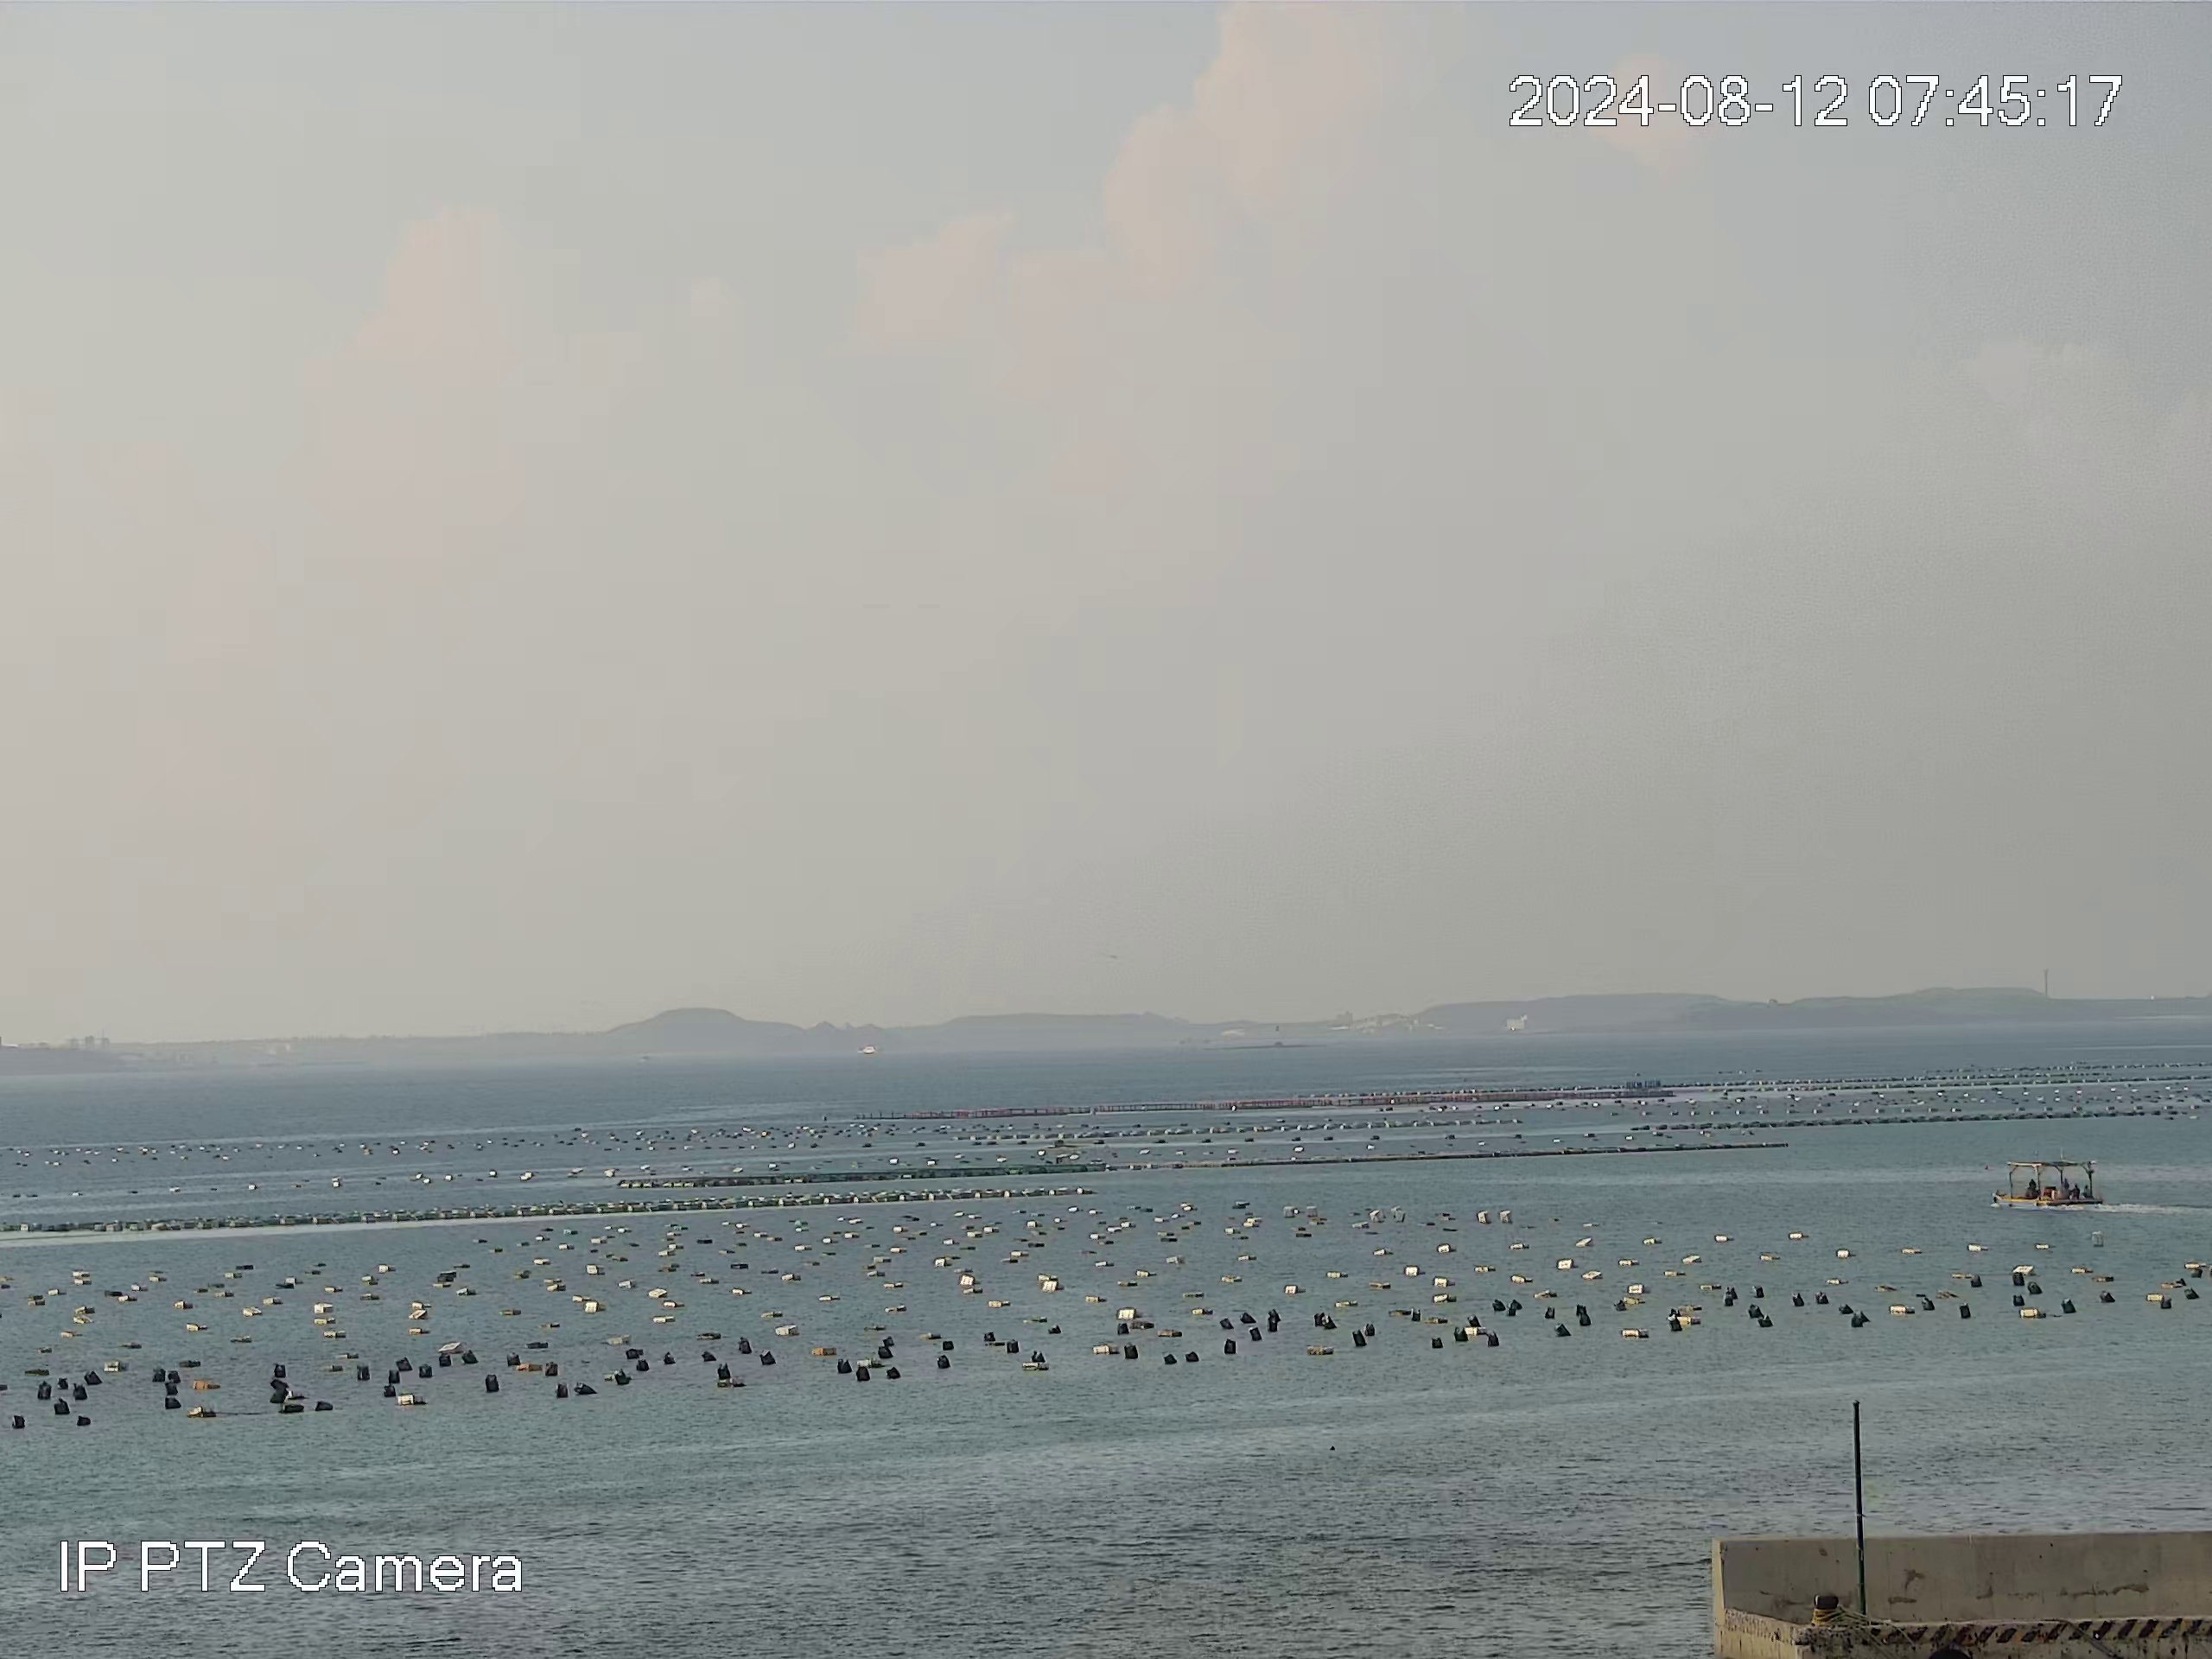boat: (1979, 1154, 2113, 1218)
